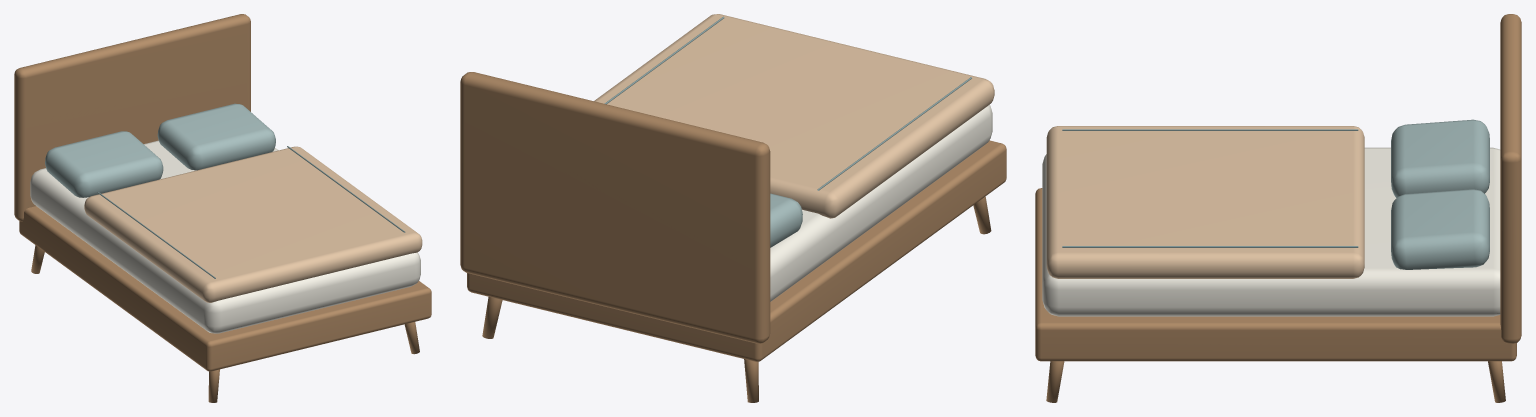
Rendered from atelier-double-bed.glb.
The picture shows the model from 3 angles, left to right: view 1: azimuth 30°, elevation 25°; view 2: azimuth 150°, elevation 25°; view 3: azimuth 270°, elevation 25°; orthographic projection. The views are drawn at different scales.
Visible parts, largest first — view 1: legs.024, bedding.001, ceramic.001, fabric.027, seams.026; view 2: legs.024, bedding.001, ceramic.001, fabric.027, seams.026; view 3: bedding.001, legs.024, ceramic.001, fabric.027, seams.026.
Part boxes in pixels (box(x1,y1,x2,y2)): legs.024: box(14, 14, 431, 402); bedding.001: box(84, 146, 422, 302); ceramic.001: box(30, 140, 420, 333); fabric.027: box(45, 103, 275, 197); seams.026: box(98, 146, 405, 278); legs.024: box(460, 72, 1006, 402); bedding.001: box(594, 14, 994, 218); ceramic.001: box(770, 104, 992, 301); fabric.027: box(770, 193, 802, 247); seams.026: box(604, 16, 971, 190); bedding.001: box(1046, 126, 1364, 278); legs.024: box(1035, 14, 1521, 402); ceramic.001: box(1042, 147, 1500, 316); fabric.027: box(1391, 119, 1489, 269); seams.026: box(1062, 129, 1358, 247).
Bounding box in the file's own units: 1.45 × 1.2 × 2.07.
